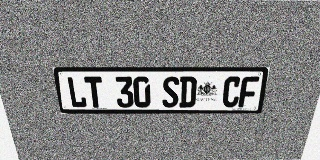0: (133, 77, 150, 108)
3: (115, 77, 134, 108)
C: (221, 76, 242, 107)
D: (179, 76, 197, 107)
F: (238, 76, 259, 107)
L: (66, 77, 87, 108)
S: (162, 77, 179, 107)
T: (84, 77, 104, 108)
